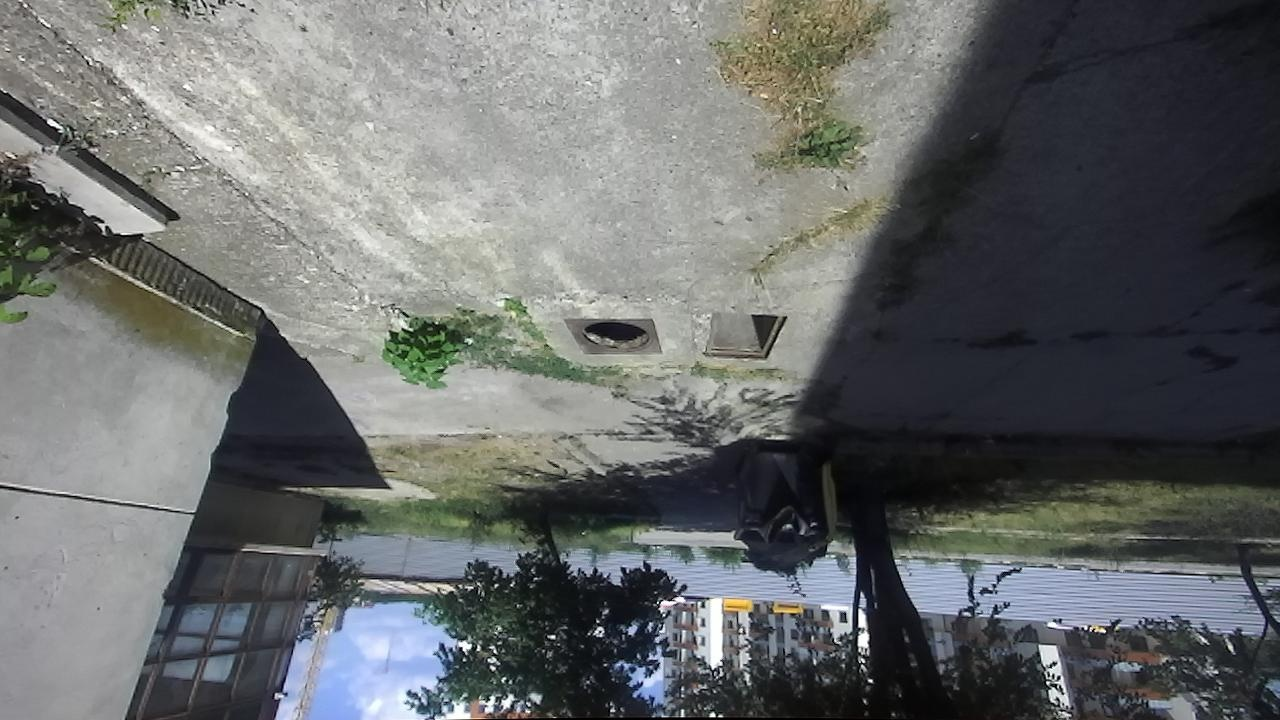drain: (699, 314, 788, 362), (578, 321, 651, 355)
